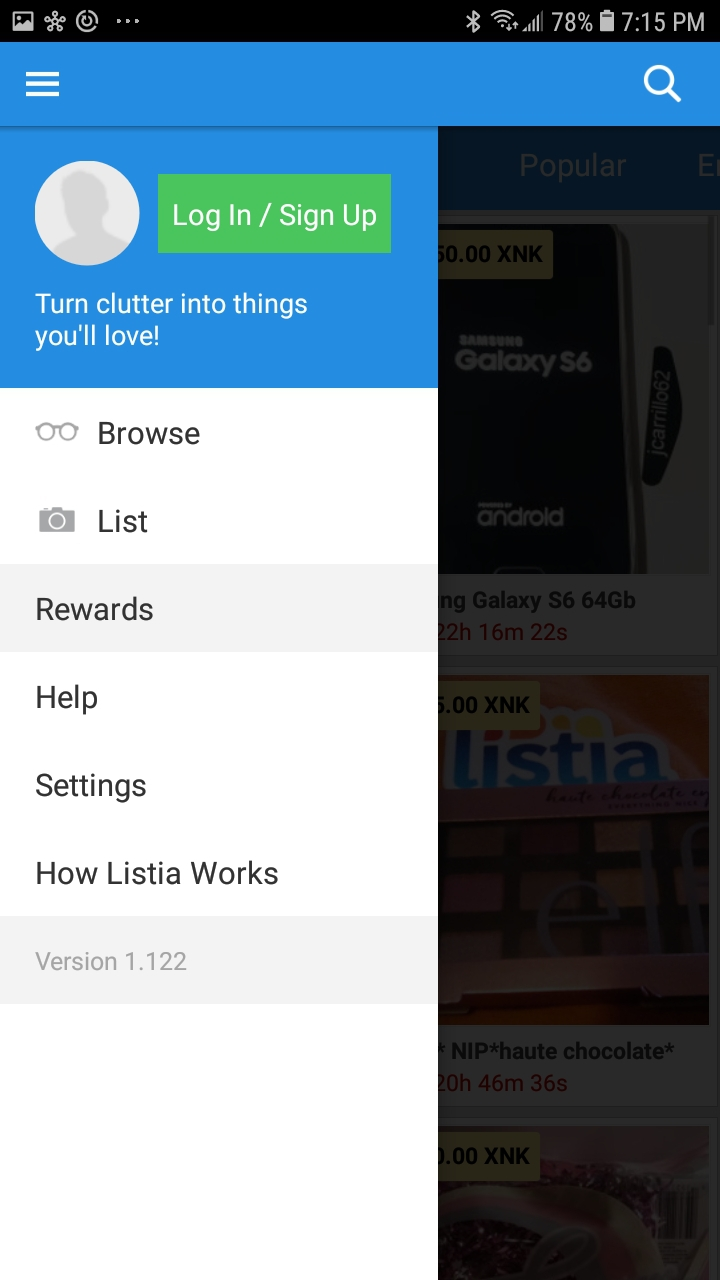Drawer: (1, 127, 439, 1280)
Icon: (35, 161, 141, 267), (643, 65, 682, 104), (39, 507, 76, 533), (26, 72, 61, 98)
Image: (36, 422, 80, 442)
Text: (35, 292, 308, 352), (37, 859, 279, 885), (36, 773, 147, 804), (35, 951, 188, 972), (37, 597, 154, 622), (99, 421, 201, 445), (37, 684, 99, 716), (99, 509, 149, 534)
TextButton: (158, 174, 392, 254)
UpperTaskBar: (1, 1, 720, 43)
